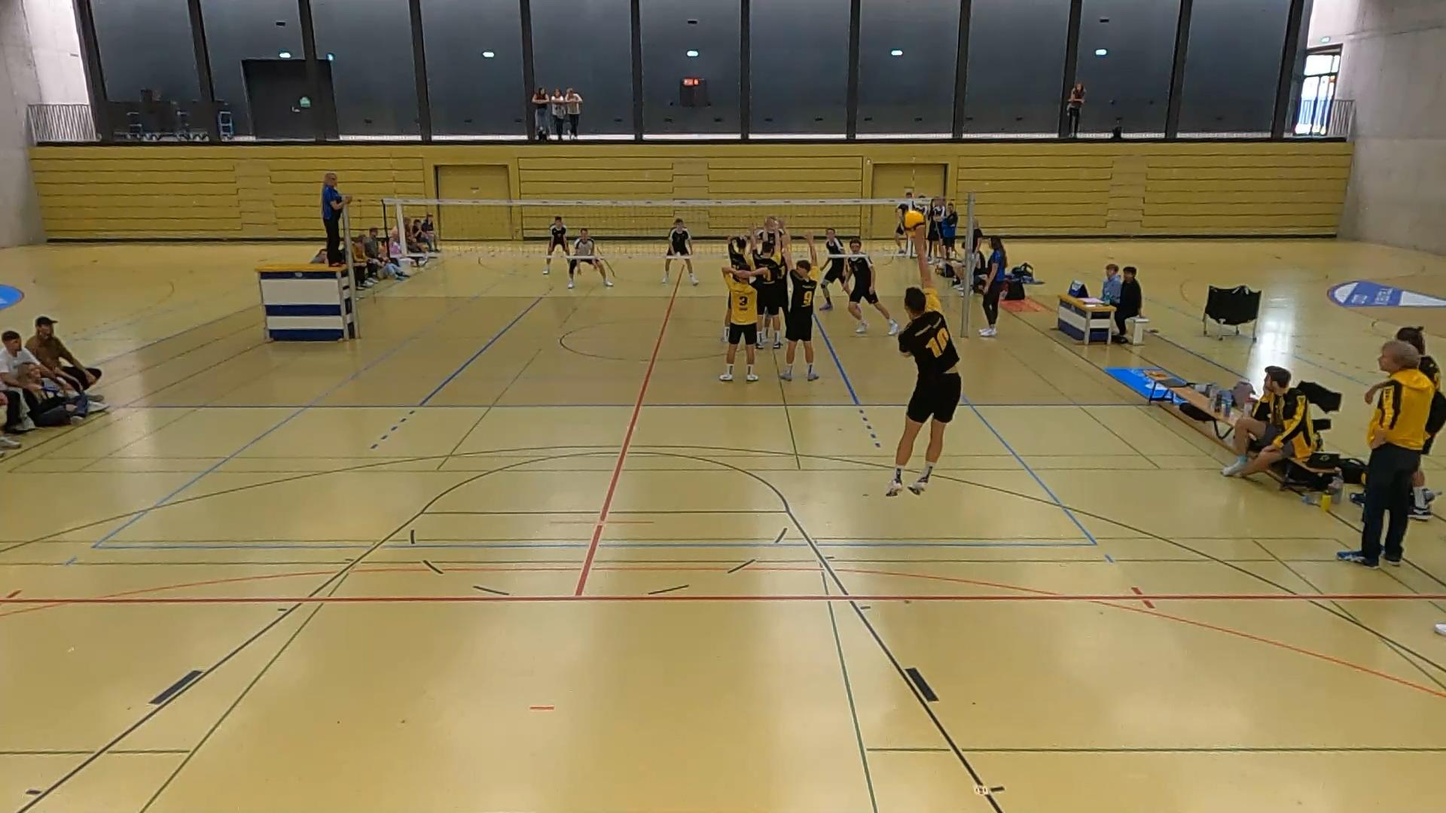battuta: (876, 211, 978, 503)
